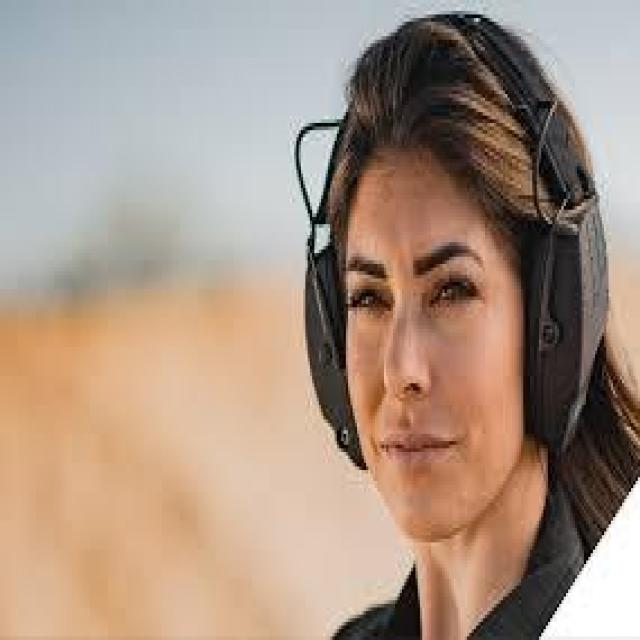Ear-protection: (276, 64, 626, 470)
